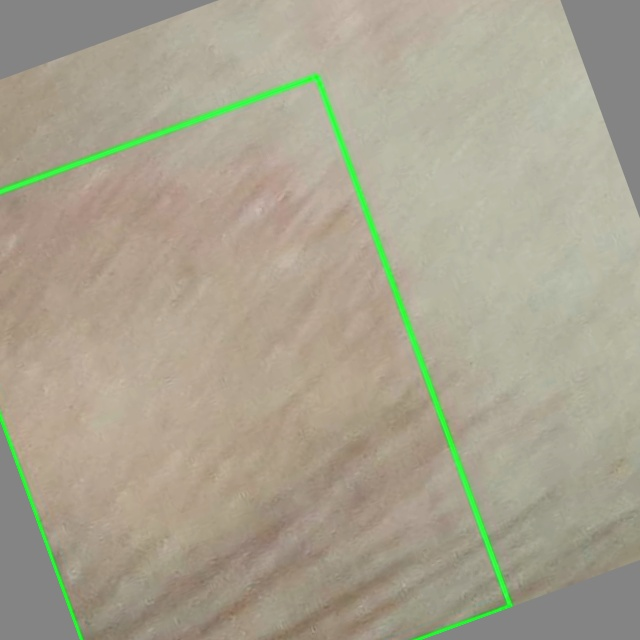Tinea Corporis: (0, 76, 510, 639)
